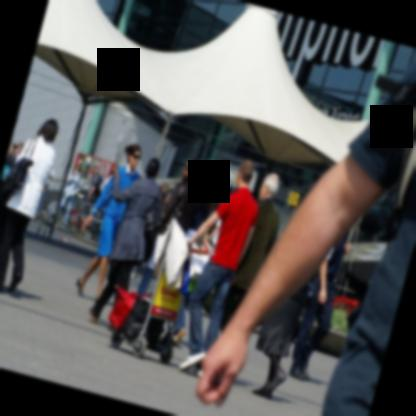backpack: (93, 171, 105, 198)
handbag: (2, 135, 37, 198), (108, 284, 147, 327), (287, 276, 317, 308), (144, 189, 160, 244)
suitcase: (108, 285, 137, 328), (145, 317, 165, 345), (128, 299, 149, 324)
